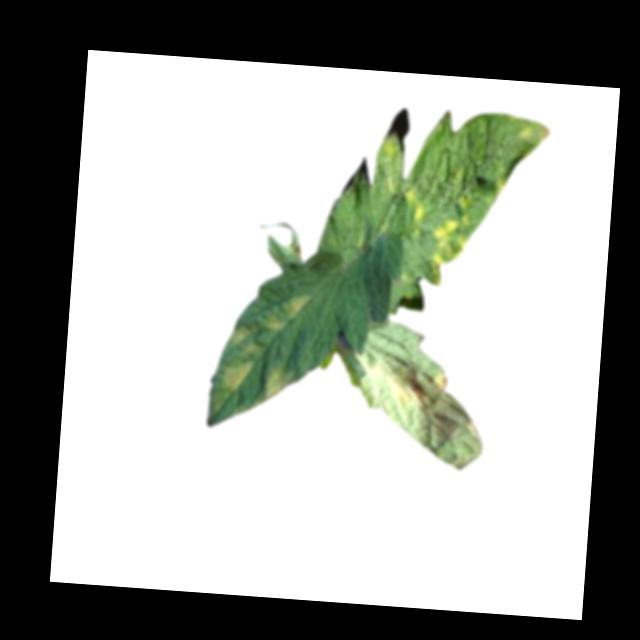Leaf_Mold: (430, 213, 480, 285), (382, 368, 448, 416), (262, 290, 316, 334), (216, 356, 259, 399), (261, 365, 300, 409), (504, 115, 551, 146), (401, 184, 427, 227), (228, 322, 258, 351)
